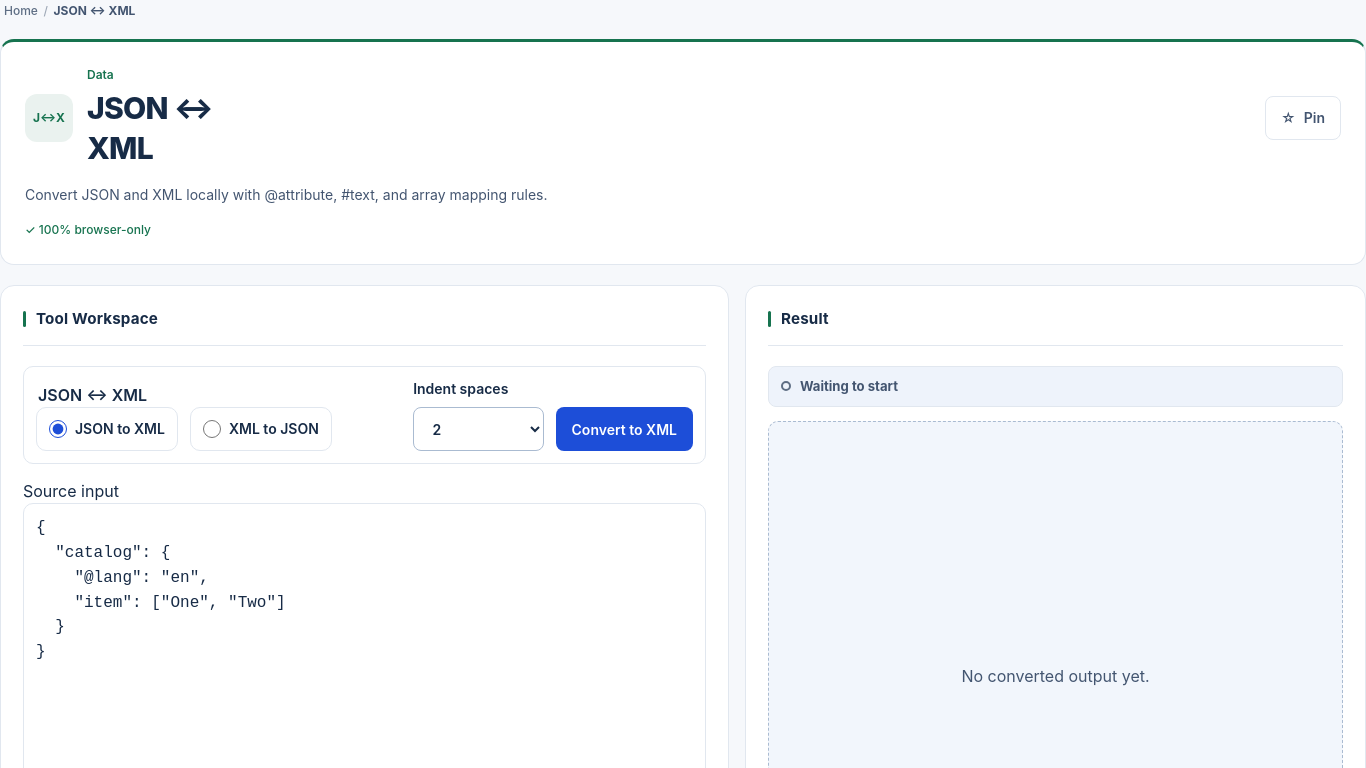
Test: JsonXmlPage › rejects forbidden XML declarations
The width and height of the screenshot is (1366, 768).
Click the radio button labelled "XML to JSON" at (212, 429), box [203,420,221,438]
(page scrolled)
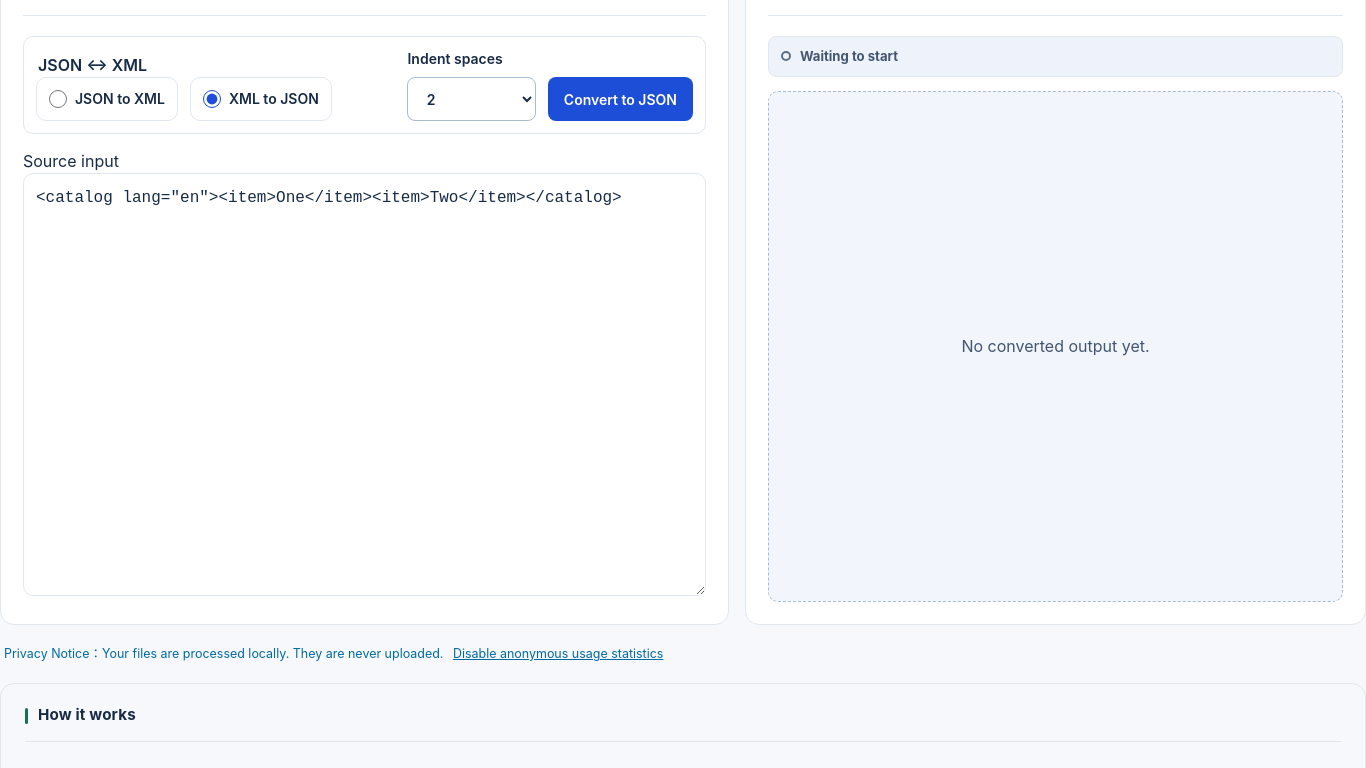
Replace the text in the text box labelled "Source input" with "<!DOCTYPE x><x/>" at (364, 385), box [23,173,706,596]
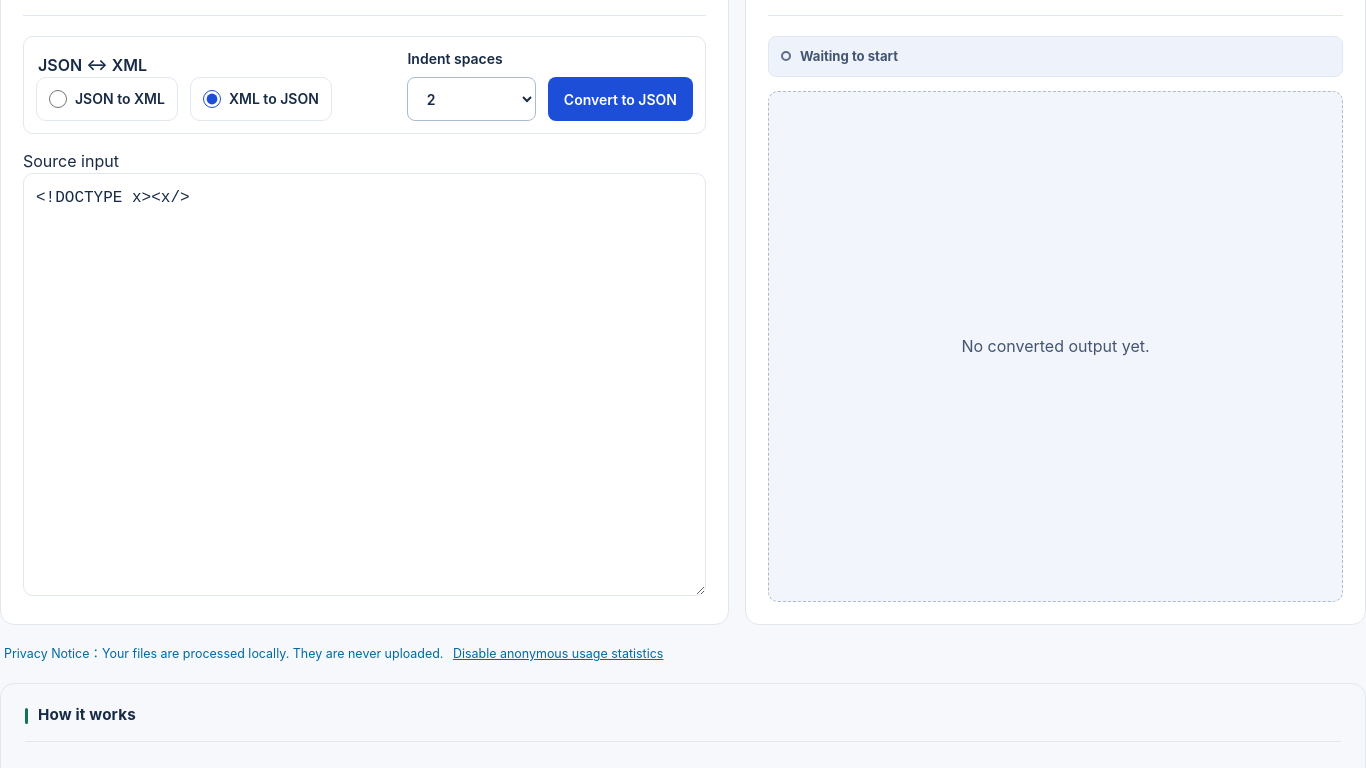
Click the button "Convert to JSON" at (620, 99), box [548,77,693,121]
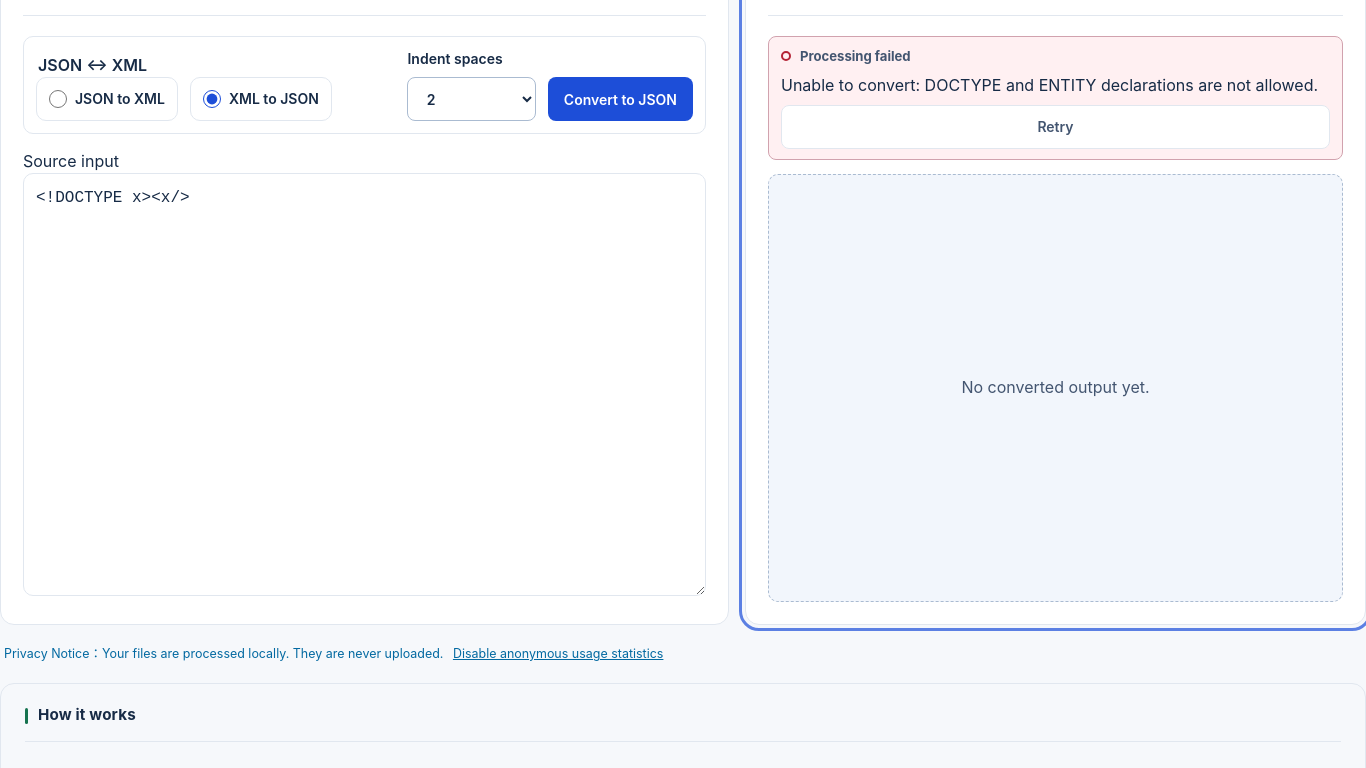
Result: the message shows "DOCTYPE" at [781,75,1318,95]
